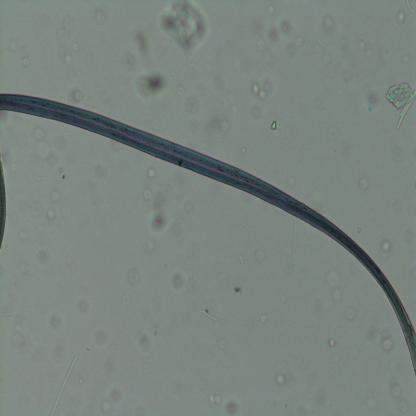Background material: (156, 0, 211, 55), (148, 191, 171, 233), (382, 77, 412, 108), (134, 70, 165, 100), (324, 268, 344, 306), (130, 28, 154, 56), (7, 314, 25, 348), (32, 125, 51, 157), (308, 382, 332, 406), (169, 265, 187, 296), (199, 386, 224, 408), (131, 332, 152, 358), (102, 384, 120, 412), (58, 12, 74, 43), (362, 322, 378, 350), (86, 328, 108, 348), (125, 264, 142, 289), (276, 366, 294, 389), (74, 291, 90, 316), (252, 78, 270, 100), (365, 86, 379, 114), (183, 94, 202, 114), (226, 396, 244, 416), (278, 14, 293, 36), (68, 88, 86, 106), (358, 169, 371, 193), (342, 304, 358, 323), (379, 234, 394, 254), (311, 299, 326, 319), (48, 313, 63, 332), (380, 325, 392, 348), (250, 246, 268, 260), (285, 40, 299, 58), (388, 381, 402, 399), (389, 358, 402, 376), (124, 53, 137, 71), (323, 12, 334, 33), (50, 186, 62, 204), (139, 186, 153, 201), (45, 205, 56, 223), (94, 8, 107, 22), (218, 116, 231, 130), (20, 53, 32, 68), (145, 163, 157, 178), (144, 238, 155, 254), (268, 26, 278, 43), (398, 399, 409, 414), (372, 392, 381, 410), (257, 310, 269, 323), (358, 39, 367, 54), (266, 5, 276, 18), (268, 120, 278, 132), (328, 338, 338, 350), (59, 164, 65, 183), (258, 40, 268, 51), (295, 35, 304, 47), (395, 12, 405, 22), (239, 144, 248, 155), (237, 254, 245, 266), (234, 285, 244, 294), (402, 55, 410, 64)
Glass filter fibre: (50, 355, 78, 416), (282, 215, 298, 293), (395, 90, 416, 132), (392, 20, 406, 38), (202, 308, 218, 322), (406, 0, 416, 15)
Microfibre: (0, 90, 416, 371), (0, 159, 8, 251)
